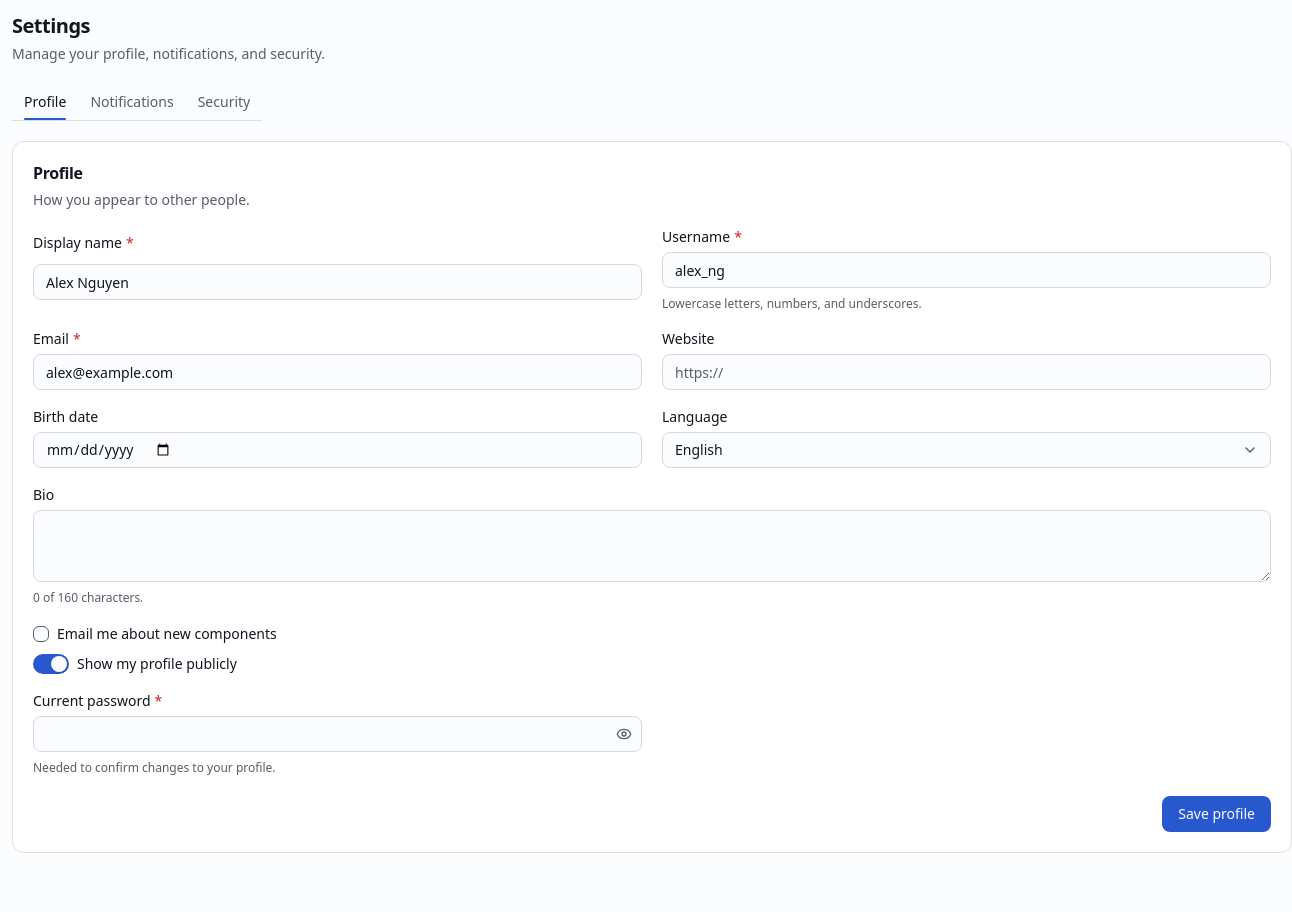
UserProfileSettings › notifications › reports a failure and keeps the choices
The image size is (1292, 912).
Click the tab "Notifications" at (132, 102), box [78,84,186,120]
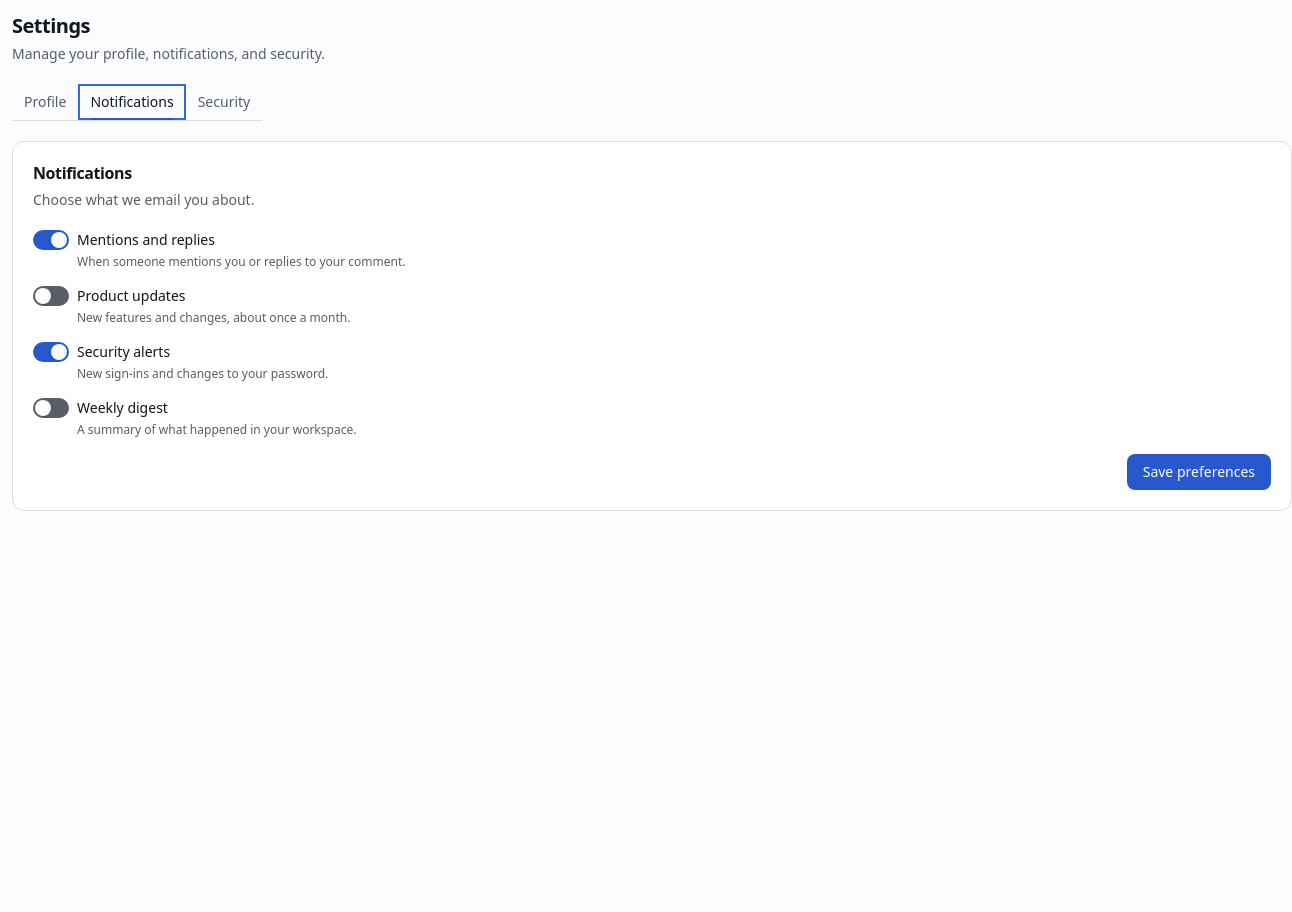
Click the switch named "Weekly digest" next to "Weekly digest" at (51, 408), box [33,398,69,418]
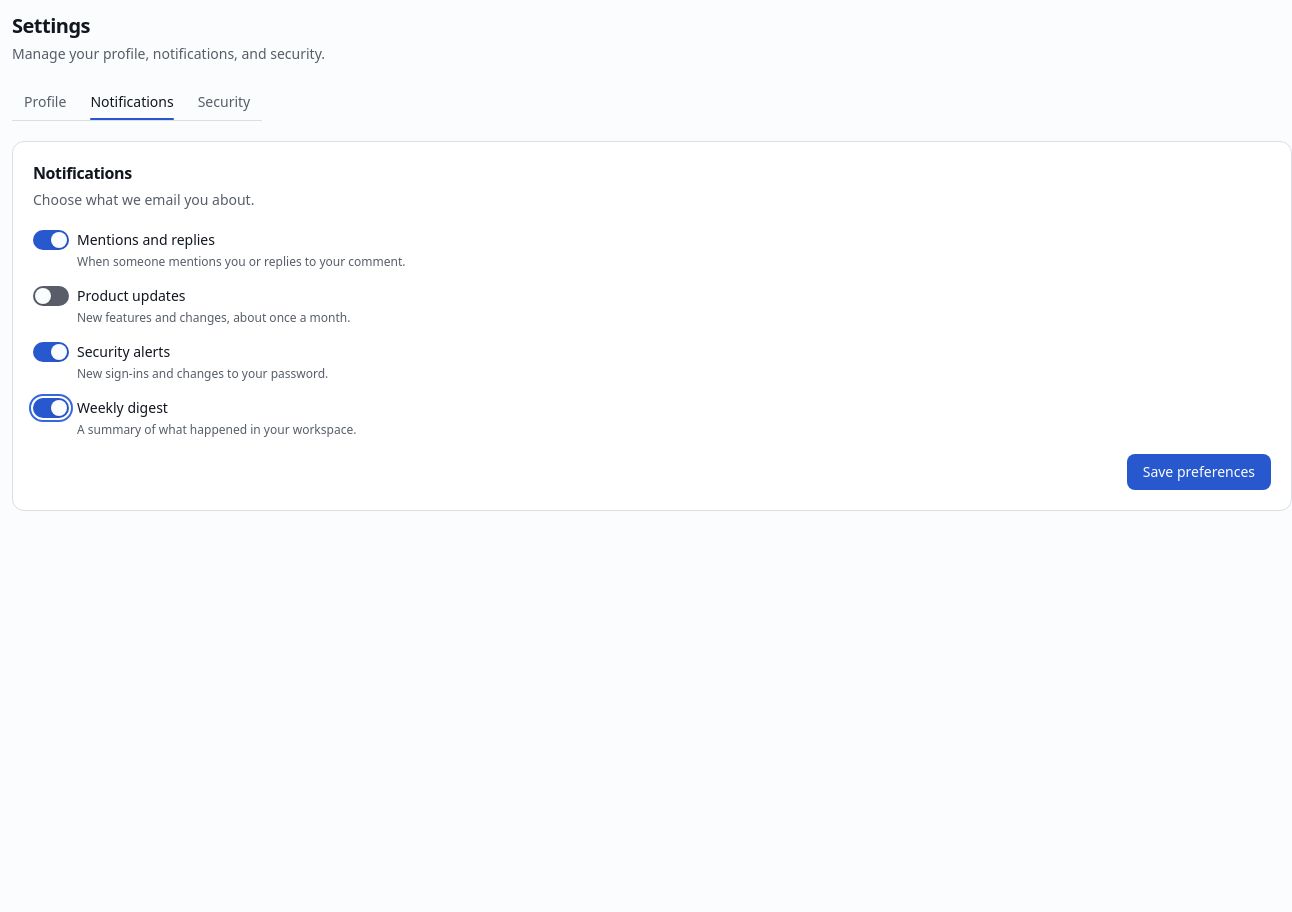
Click the button "Save preferences" at (1199, 472), box [1127,454,1271,490]
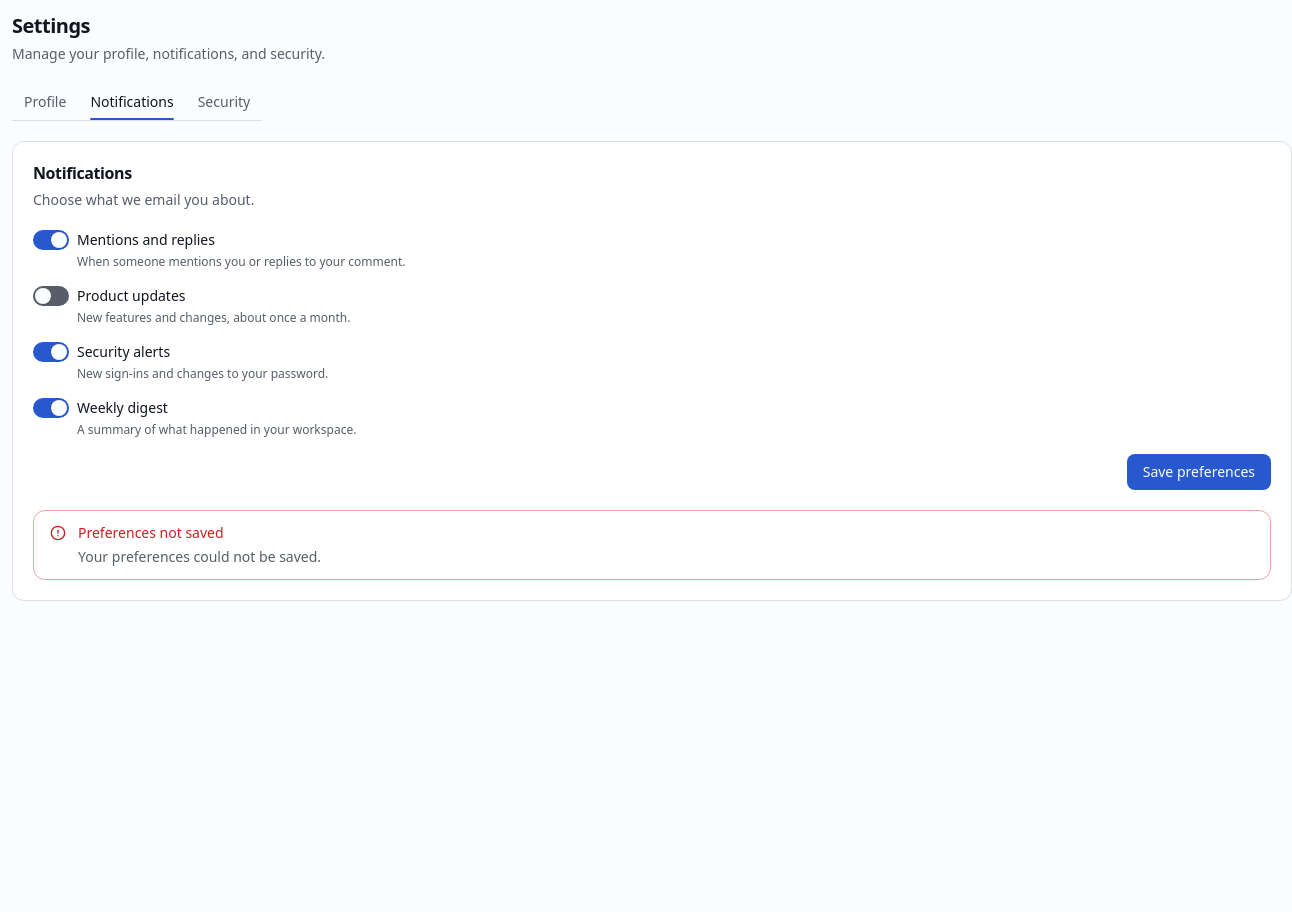
Now the switch named "Weekly digest" next to "Weekly digest" is checked, box [33,398,69,418]
Now the message shows "Preferences not saved", box [78,523,224,542]
Now the message shows "Your preferences could not be saved.", box [78,547,321,566]
